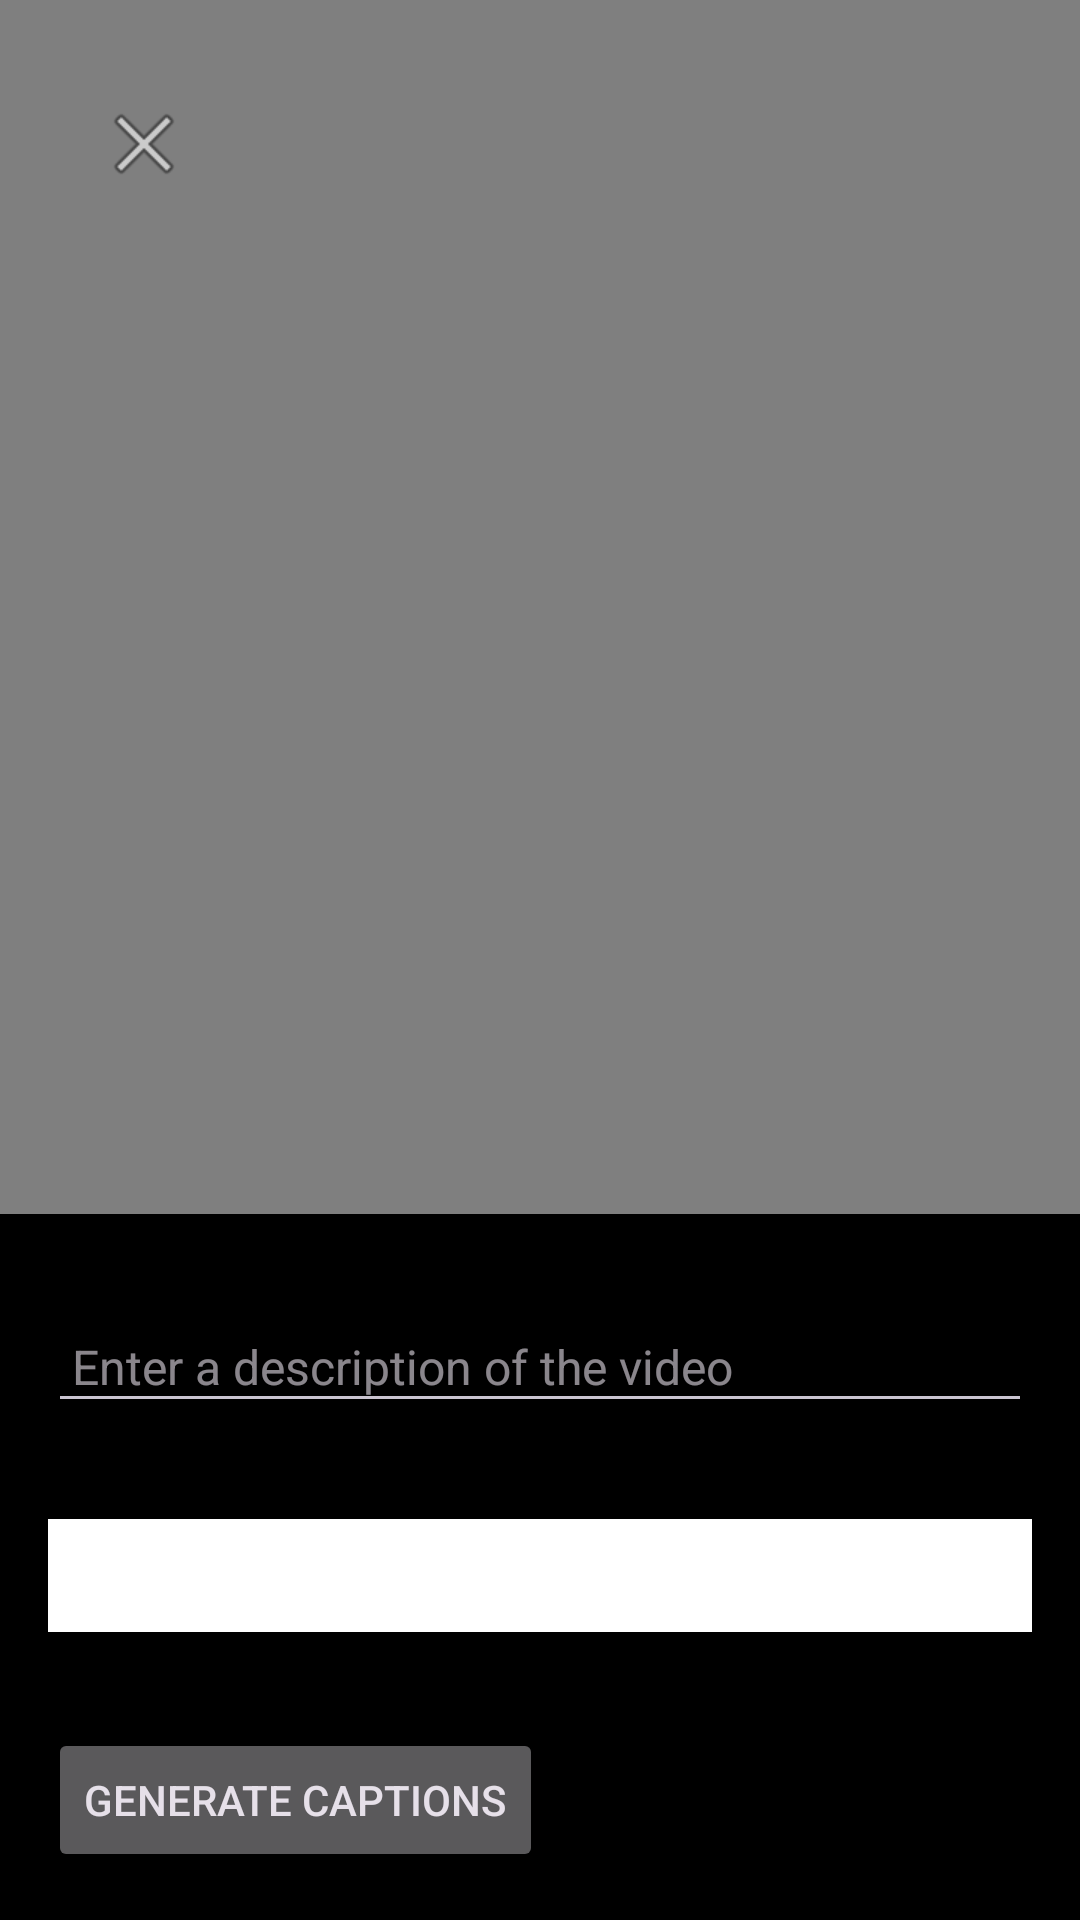

Where to tap for icons on this 1080×1920 app screen, as point (x, y):
close clear cancel: point (144, 144)
